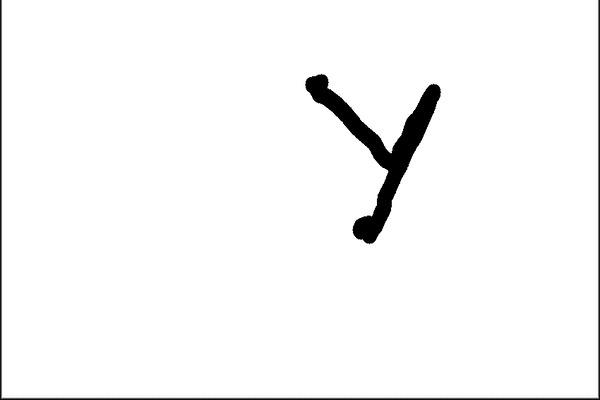Y: (294, 69, 449, 256)
